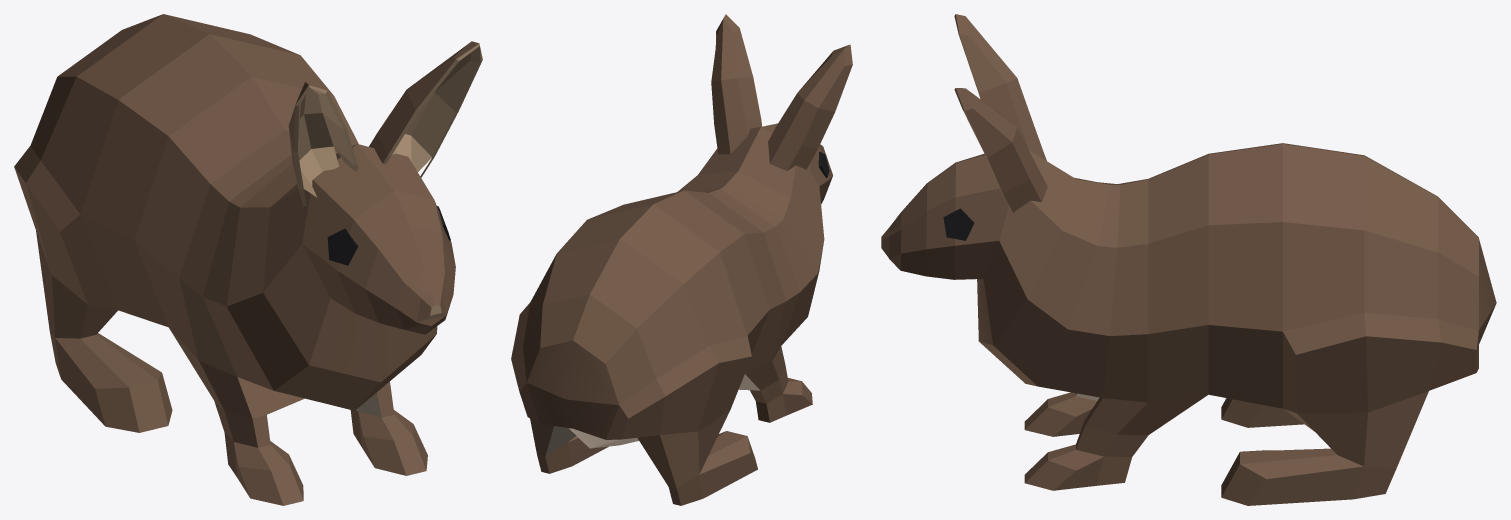
The model's file is 78272c95-1b89-4afa-ba94-9d93e4dce0ee.glb.
3 renders of one model, left to right at view 1: azimuth 30°, elevation 25°; view 2: azimuth 150°, elevation 25°; view 3: azimuth 270°, elevation 25°, orthographic. The views are drawn at different scales.
Visible parts, largest first — view 1: Geo_Rabbit; view 2: Geo_Rabbit; view 3: Geo_Rabbit.
Part boxes in pixels (x1,y1,x2,y2): Geo_Rabbit: (14, 14, 482, 505); Geo_Rabbit: (511, 14, 852, 505); Geo_Rabbit: (881, 14, 1496, 505).
Bounding box in the file's own units: 41.05 × 62.44 × 86.73.
1 material, 1 textured.
